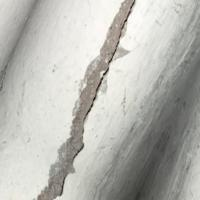crack: (40, 1, 136, 198)
